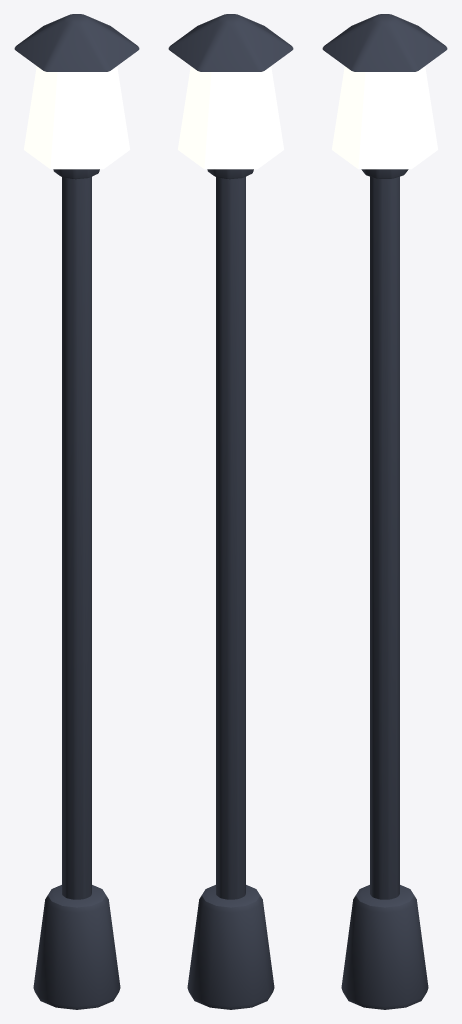
The model's file is poste.glb.
3 views of the same model, side by side, from view 1: azimuth 30°, elevation 25°; view 2: azimuth 210°, elevation 25°; view 3: azimuth 270°, elevation 25° (orthographic).
Visible parts, largest first — view 1: Cone; view 2: Cone; view 3: Cone.
Part boxes in pixels (x1,y1,x2,y2): Cone: [14, 14, 139, 1009]; Cone: [168, 14, 293, 1009]; Cone: [322, 14, 447, 1009].
Bounding box in the file's own units: 0.4985 × 4.86 × 0.5641.
